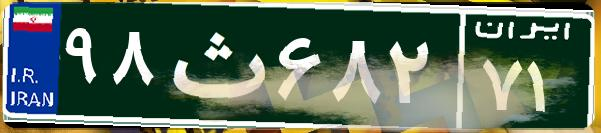1: (525, 38, 570, 115)
2: (385, 28, 445, 110)
6: (273, 28, 330, 110)
7: (475, 38, 525, 113)
8: (330, 28, 385, 110), (110, 28, 158, 105)
9: (57, 26, 110, 107)
ث: (158, 15, 273, 115)
